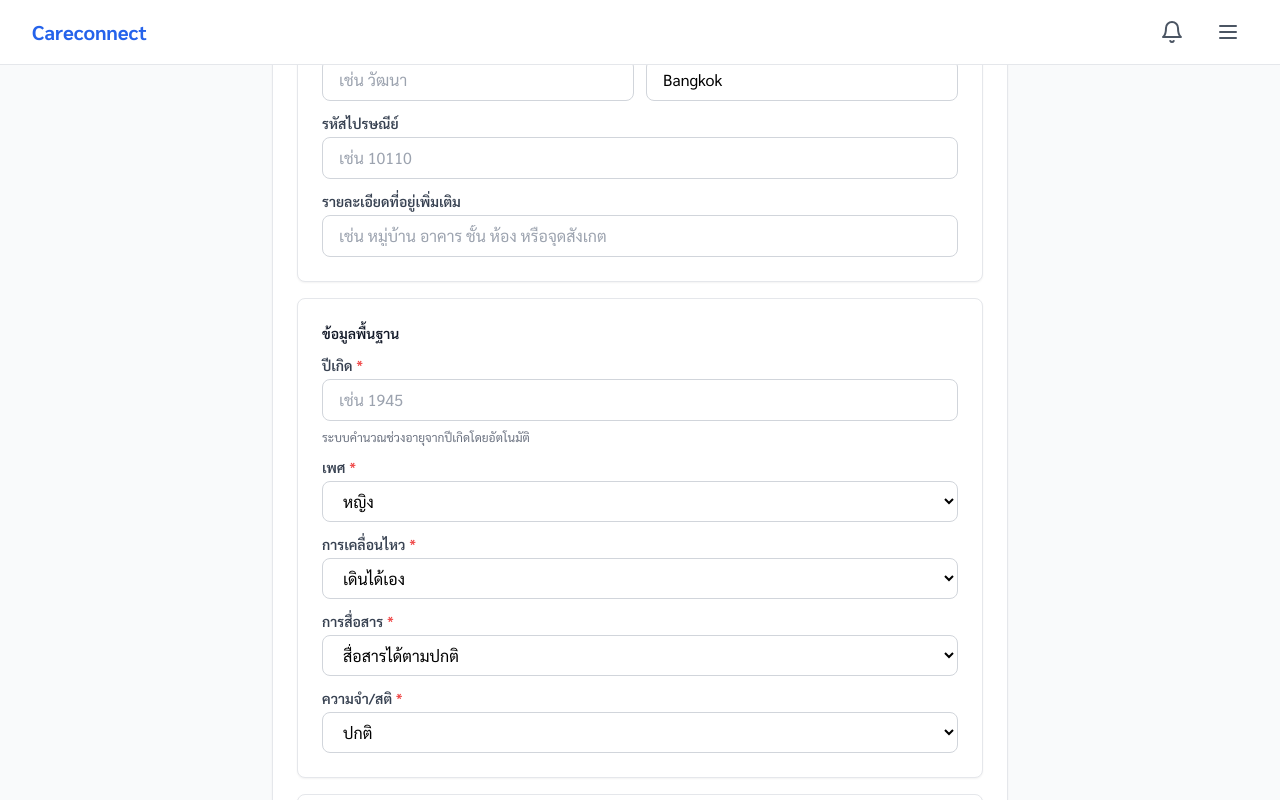
CareRecipientFormPage › shows validation error when nickname is empty
(page scrolled)
Type "1955" into the number field labelled "ปีเกิด*" at [640, 400], box x1=322 y1=379 x2=958 y2=421
(page scrolled)
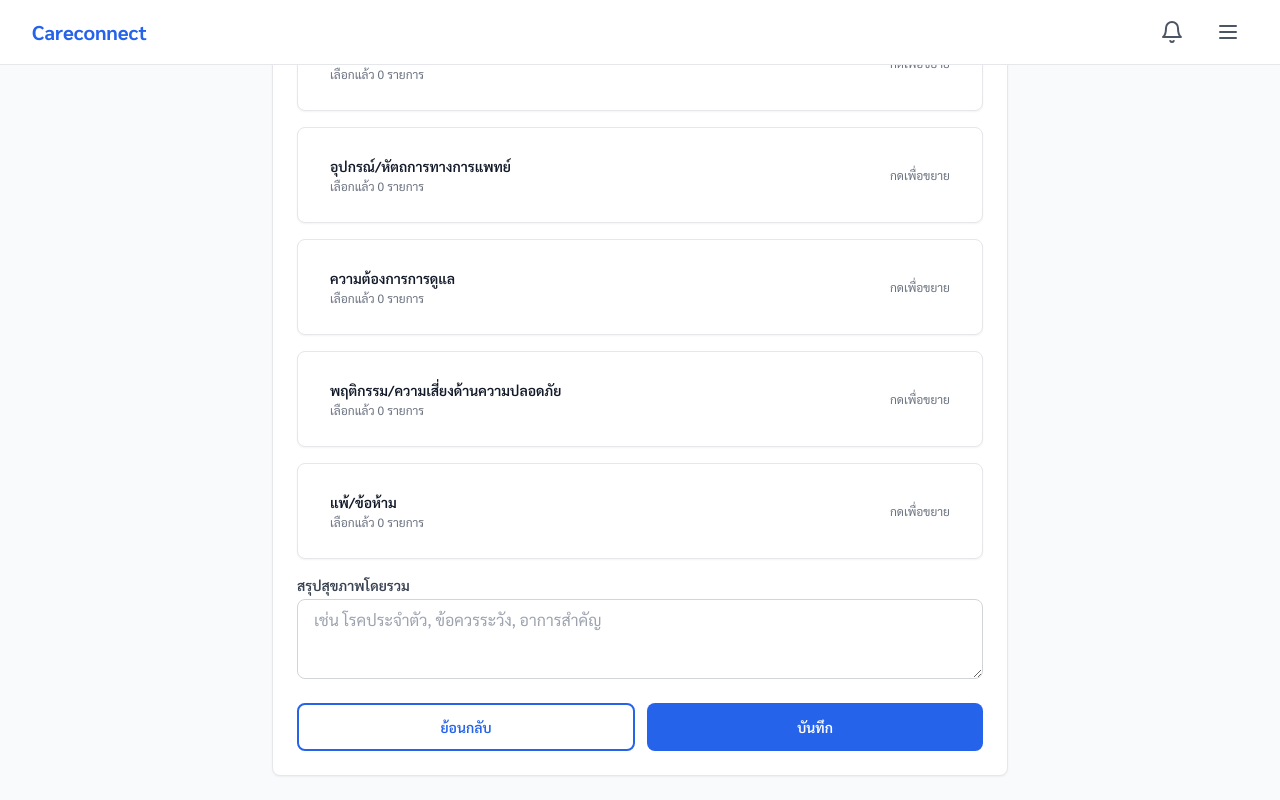
Click the button "บันทึก" at [815, 727], box x1=647 y1=703 x2=983 y2=751
(page scrolled)
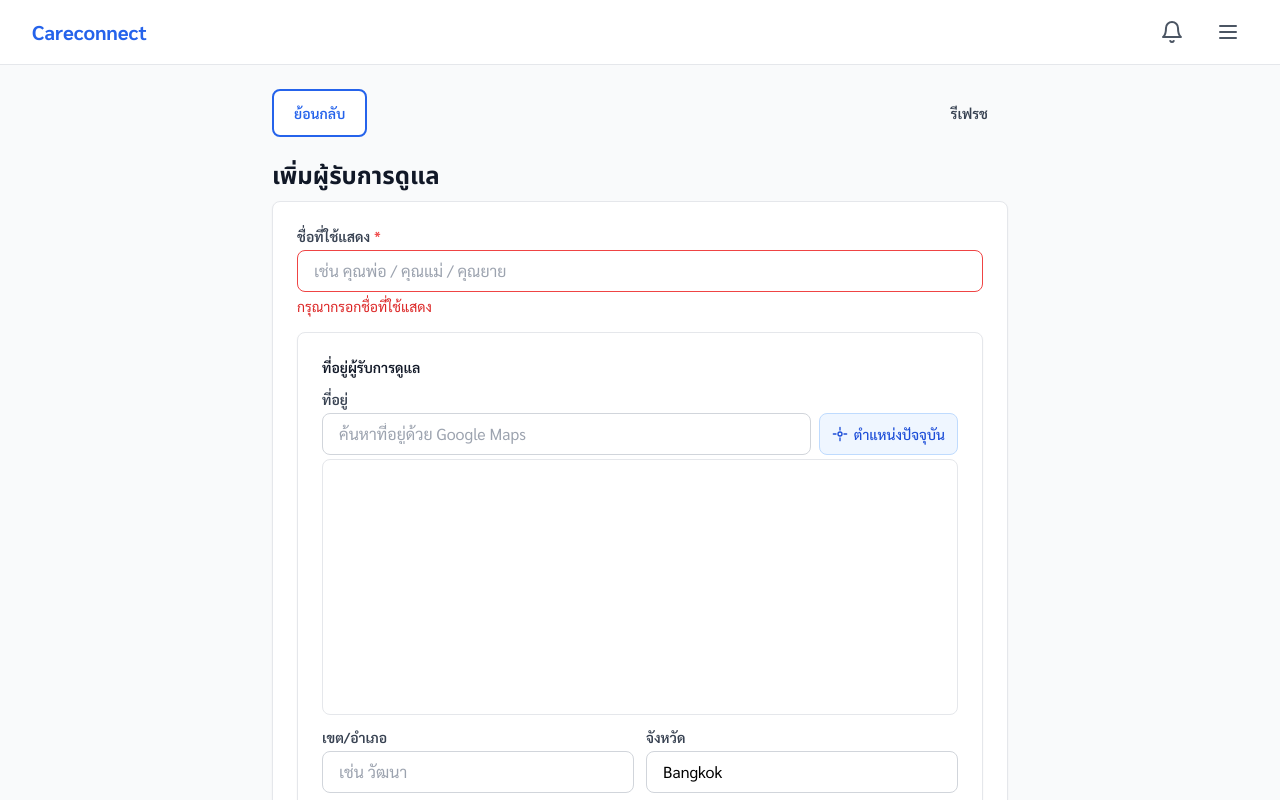
Expected: the text "กรุณากรอกชื่อที่ใช้แสดง" is shown, x1=297 y1=297 x2=432 y2=315
